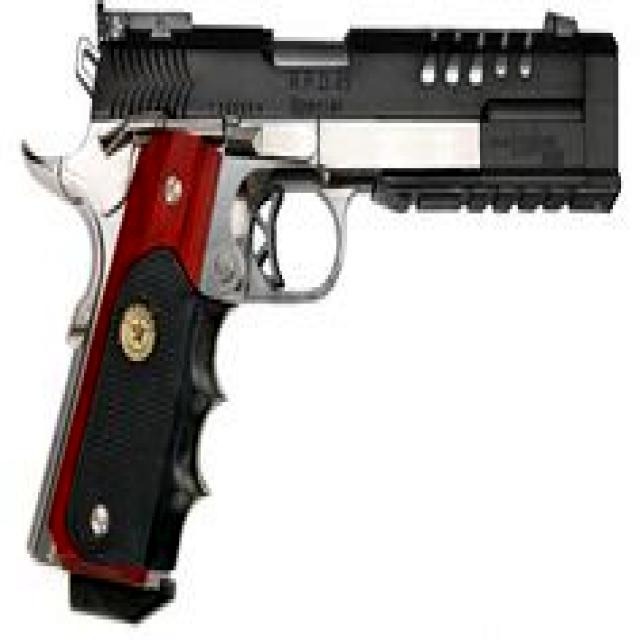semi automatic: (16, 1, 635, 638)
